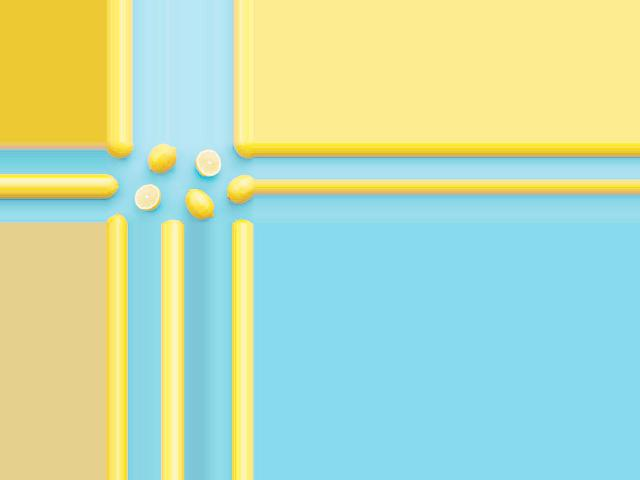lemon: (230, 142, 255, 161)
